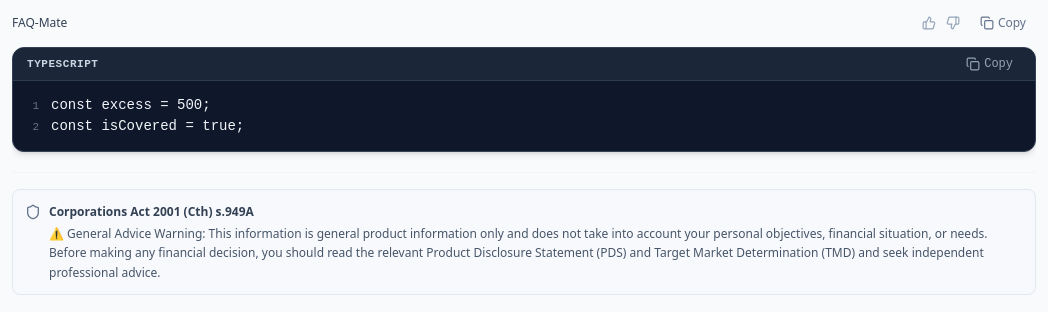
Test: AssistantMessage Component (Ticket 5) › Fenced Code Block Support › renders fenced code block with language badge, line numbers, and copy action
Expected: the element with test id "code-block" is shown, [12, 47, 1036, 152]
Expected: the element with test id "code-block" shows "typescript", [27, 58, 98, 70]
Click the button with aria-label "copy code block": (990, 64) [958, 54, 1021, 74]
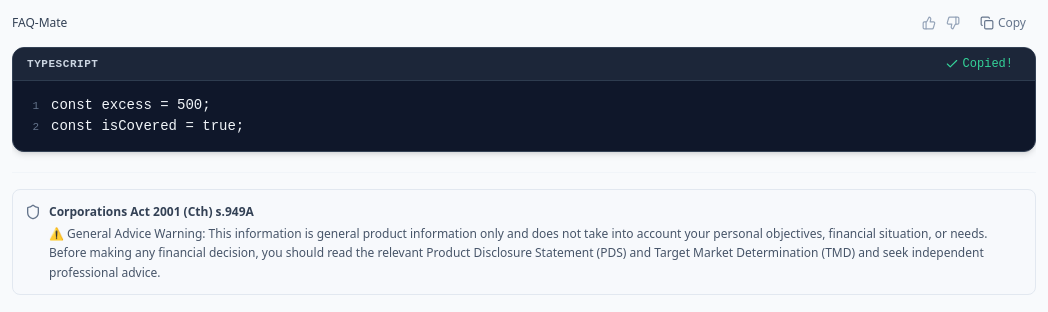
Expected: the text "Copied!" is shown, [963, 56, 1013, 72]
